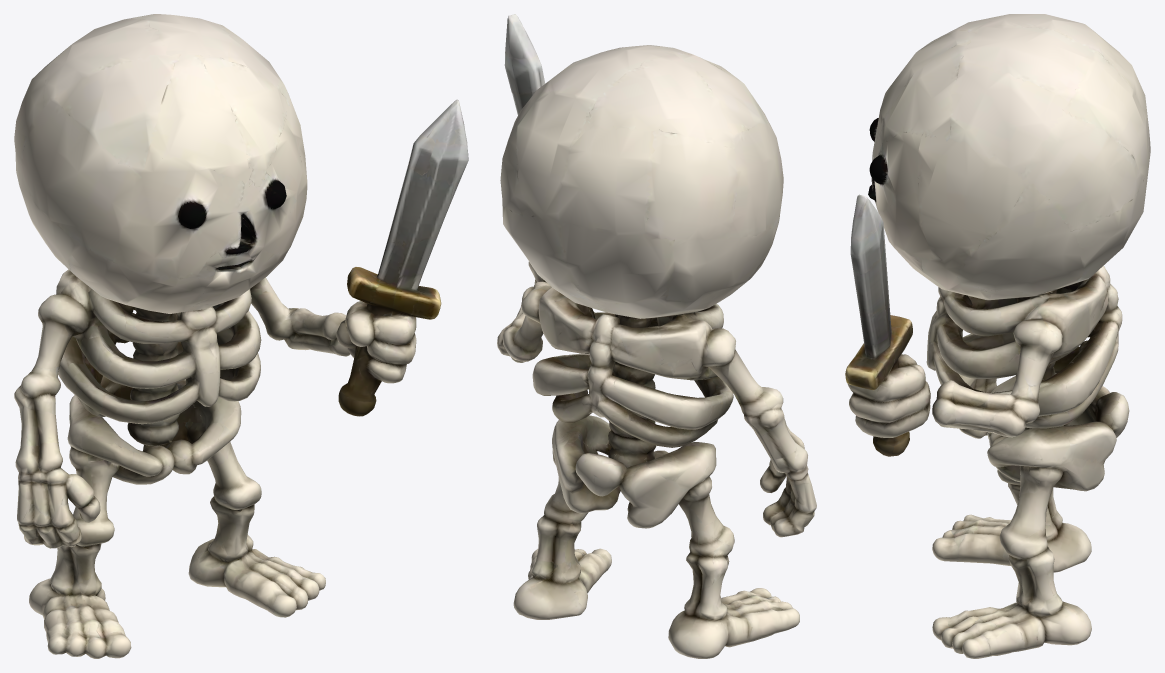
The model's file is Esqueleto.glb.
The picture shows the model from 3 angles, left to right: view 1: azimuth 30°, elevation 25°; view 2: azimuth 150°, elevation 25°; view 3: azimuth 270°, elevation 25°; orthographic projection. The views are drawn at different scales.
Bounding box in the file's own units: 1.32 × 1.9 × 0.9191.
Materials: 1 (1 with a texture image).
